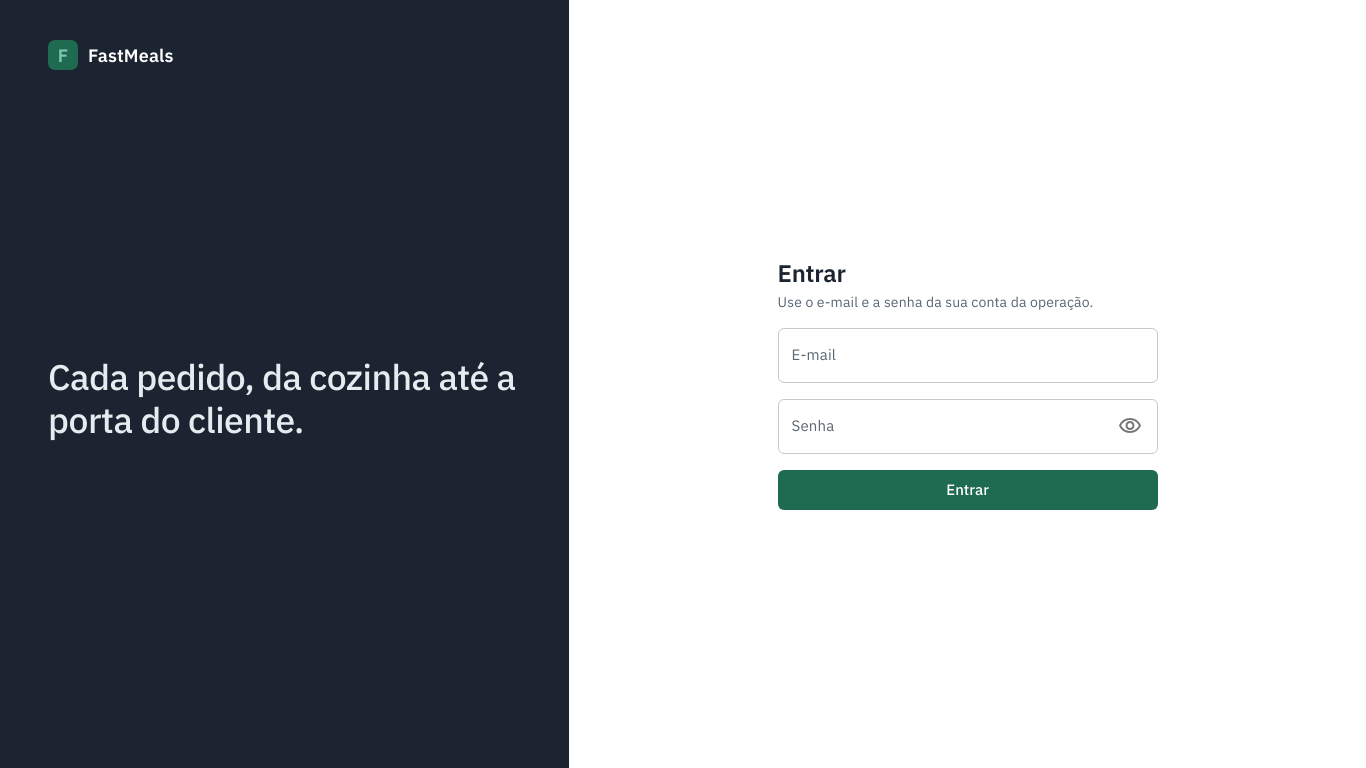
Scenario: login flow › shows a clear message for wrong credentials
The image size is (1366, 768).
Type "admin@fastmeals.com" into the field labelled "E-mail" at (968,356), box [778,328,1158,383]
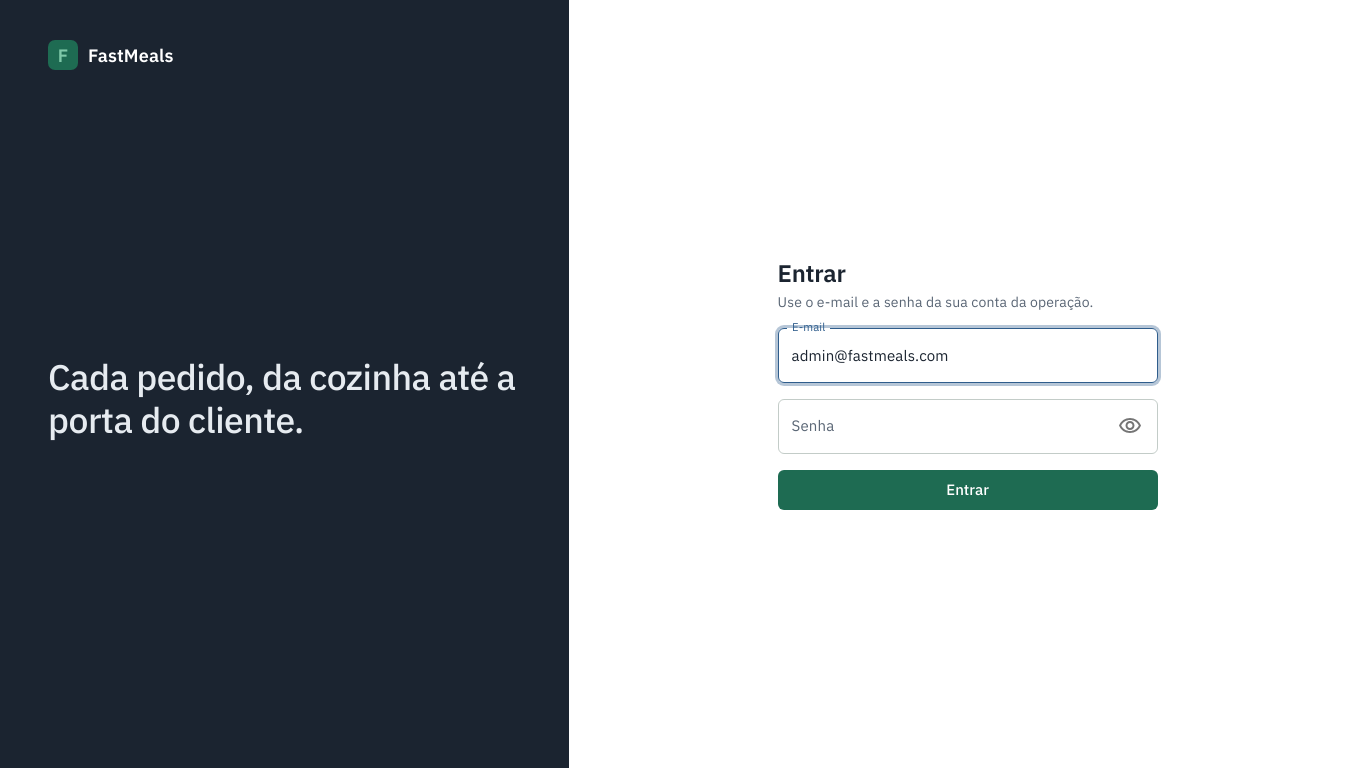
Type "errada" into the password field labelled "Senha" at (941,426), box [778,399,1105,454]
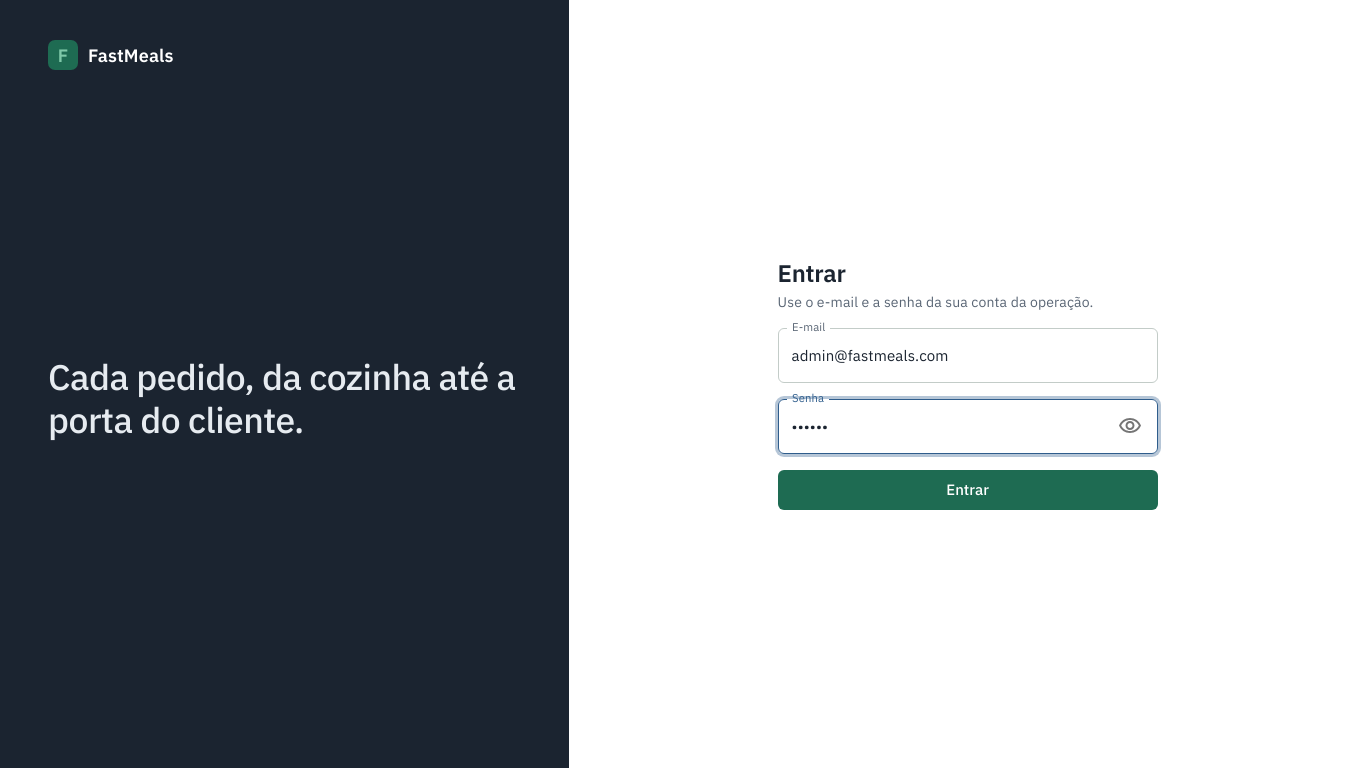
Click the button "Entrar" at (968,490), box [778,470,1158,510]
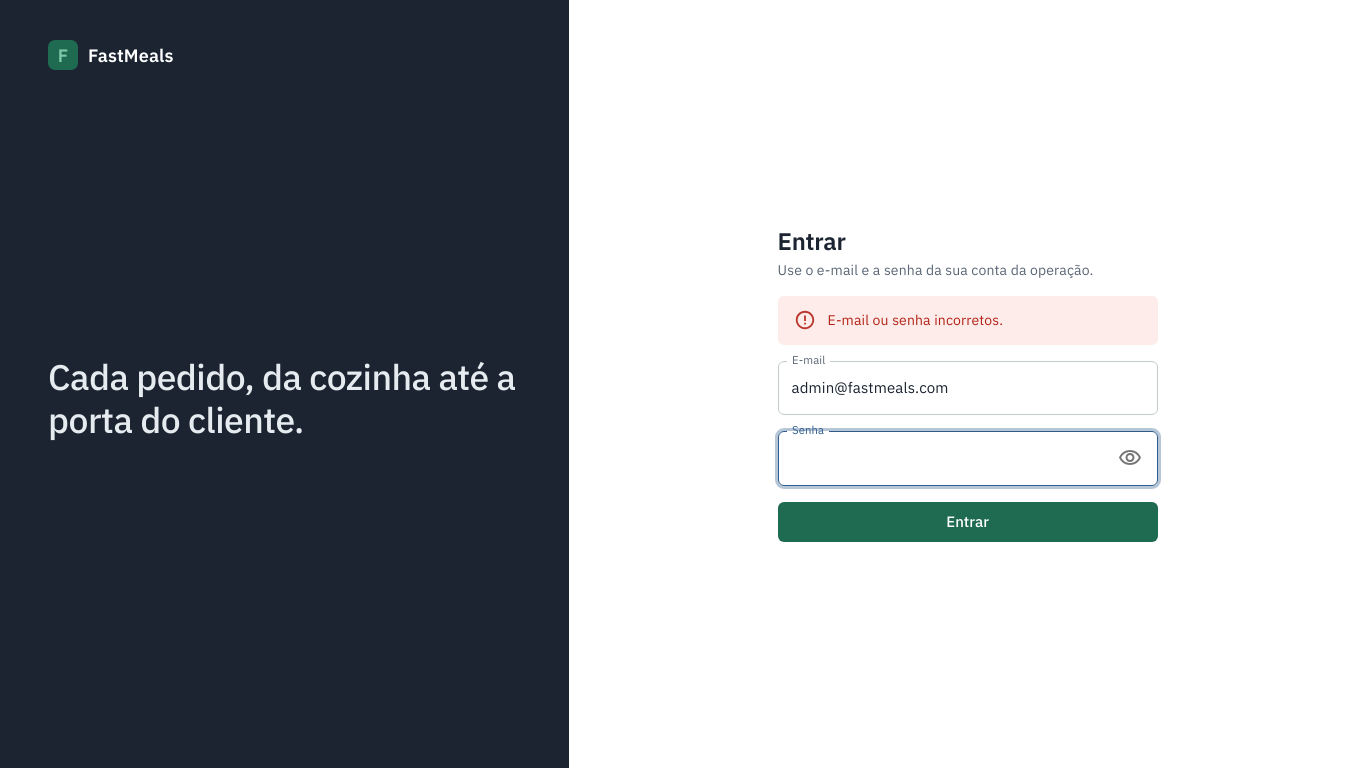
Now the message reads "E-mail ou senha incorretos.", box [828,311,1003,329]
Now the password field labelled "Senha" is empty, box [778,431,1105,486]
